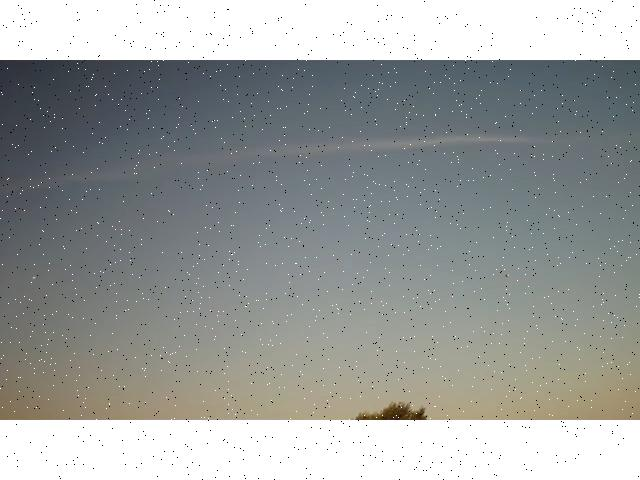Anti-Drone: (500, 268, 524, 286)
